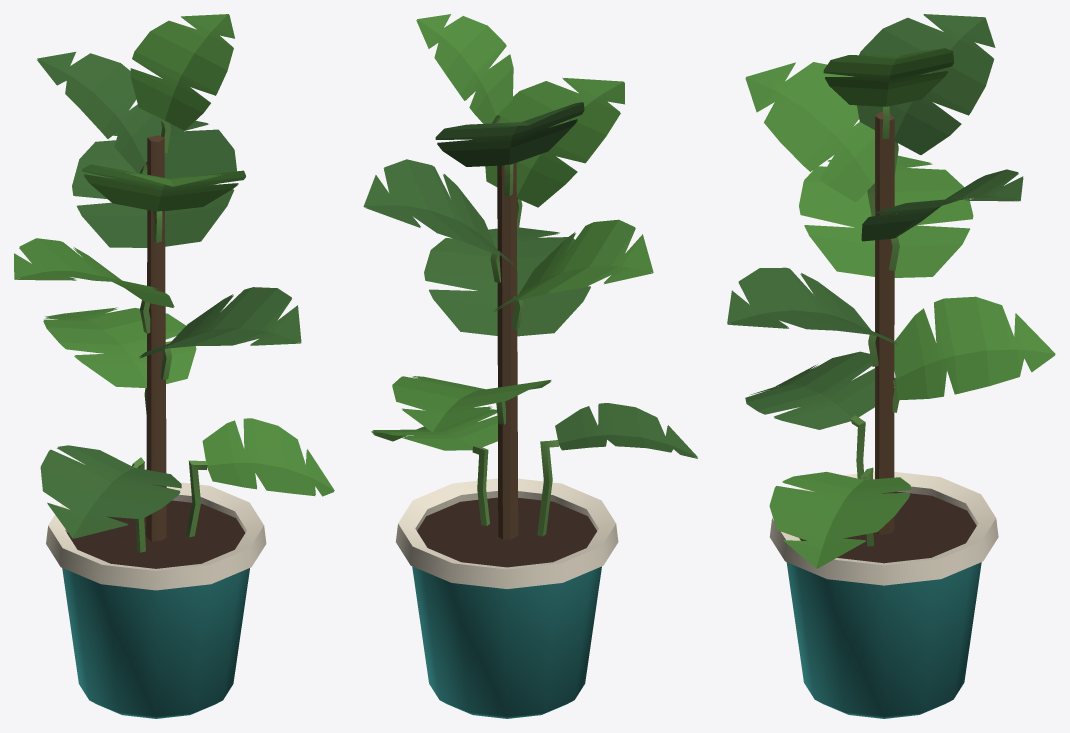
The model's file is Shop_PottedPlant.fbx.
3 renders of one model, left to right at view 1: azimuth 30°, elevation 25°; view 2: azimuth 150°, elevation 25°; view 3: azimuth 270°, elevation 25°, orthographic. The views are drawn at different scales.
Parts seen in each view (by area): view 1: LeavesLight, LeavesDark, Pot, PotRim, Soil, MossPole, Stems; view 2: LeavesLight, LeavesDark, Pot, PotRim, Soil, MossPole, Stems; view 3: LeavesLight, LeavesDark, Pot, PotRim, MossPole, Soil, Stems.
Boxes of the visible parts, left/top/right/bottom form: LeavesLight: left=14, top=14, right=334, bottom=496; LeavesDark: left=37, top=52, right=301, bottom=538; Pot: left=62, top=568, right=249, bottom=718; PotRim: left=46, top=482, right=266, bottom=590; Soil: left=67, top=500, right=245, bottom=568; MossPole: left=146, top=135, right=166, bottom=541; Stems: left=132, top=119, right=207, bottom=552; LeavesLight: left=371, top=14, right=653, bottom=450; LeavesDark: left=363, top=102, right=697, bottom=458; Pot: left=412, top=566, right=601, bottom=718; PotRim: left=396, top=478, right=618, bottom=589; Soil: left=417, top=497, right=596, bottom=567; MossPole: left=497, top=162, right=518, bottom=539; Stems: left=472, top=115, right=558, bottom=536; LeavesLight: left=745, top=48, right=1055, bottom=568; LeavesDark: left=727, top=14, right=1023, bottom=429; Pot: left=786, top=562, right=981, bottom=718; PotRim: left=769, top=471, right=998, bottom=585; MossPole: left=875, top=112, right=894, bottom=534; Soil: left=799, top=491, right=976, bottom=563; Stems: left=850, top=106, right=899, bottom=546.
Bounding box in the file's own units: 294 × 631 × 279.
